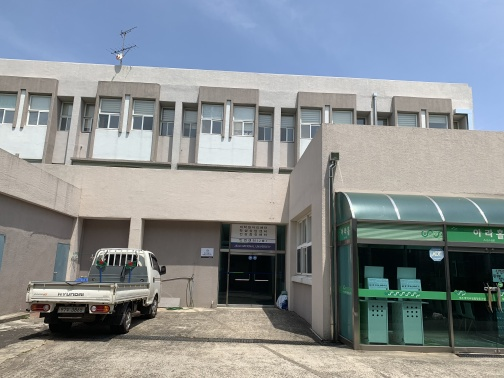Ara Hall: (278, 111, 503, 363), (329, 181, 501, 352)
